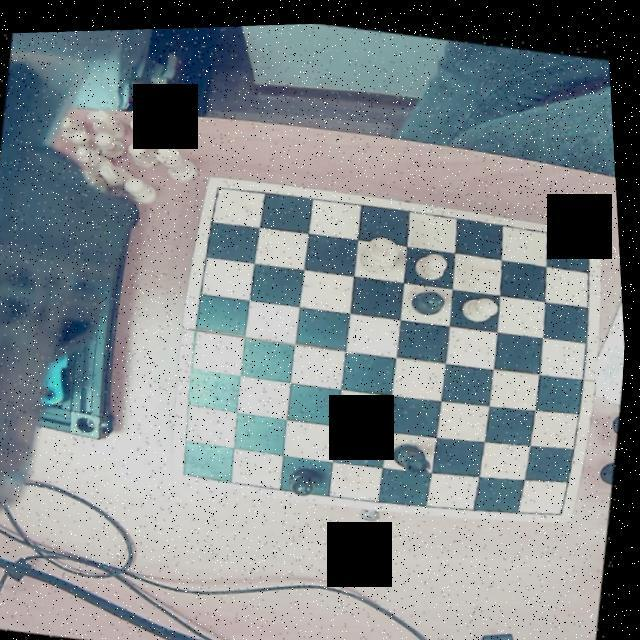chess-table-corners: (178, 452, 208, 481), (206, 171, 234, 200), (571, 217, 604, 241), (553, 488, 580, 512)
